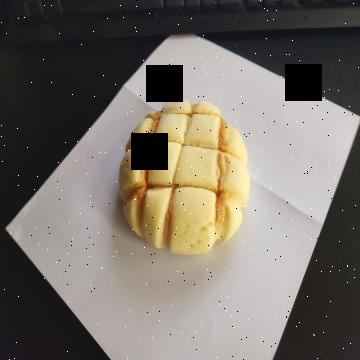melon_bread: (114, 97, 249, 260)
